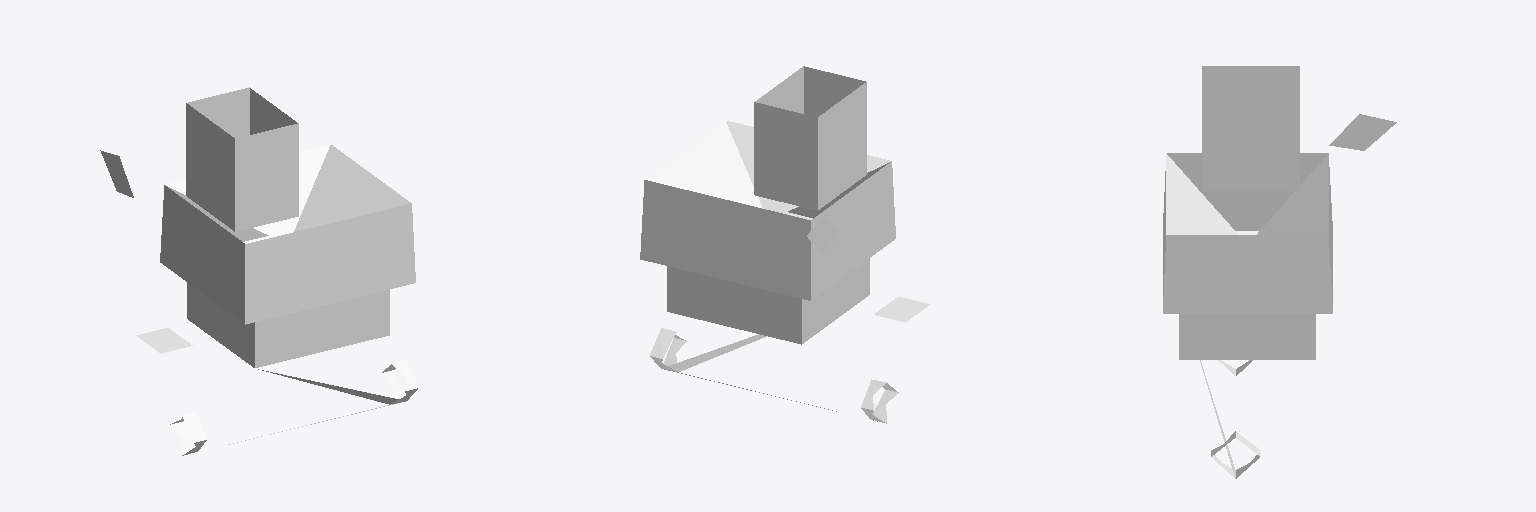
File: TINMAN.obj
The picture shows the model from 3 angles: view 1: azimuth 30°, elevation 25°; view 2: azimuth 150°, elevation 25°; view 3: azimuth 270°, elevation 25°; orthographic projection.
Parts seen in each view (by area): view 1: TINMAN_node00_face01, TINMAN_node00_face00, TINMAN_node17_face00; view 2: TINMAN_node00_face01, TINMAN_node00_face00, TINMAN_node17_face00; view 3: TINMAN_node00_face01, TINMAN_node17_face00.
Boxes of the visible parts, box(x1,y1,x2,y2) form: TINMAN_node00_face01: box(100, 87, 417, 455); TINMAN_node00_face00: box(181, 282, 406, 455); TINMAN_node17_face00: box(188, 289, 389, 366); TINMAN_node00_face01: box(640, 66, 930, 422); TINMAN_node00_face00: box(662, 270, 898, 423); TINMAN_node17_face00: box(667, 259, 869, 344); TINMAN_node00_face01: box(1163, 66, 1396, 478); TINMAN_node17_face00: box(1179, 314, 1315, 359).
Size of the model in its own units: 477 by 567 by 376.